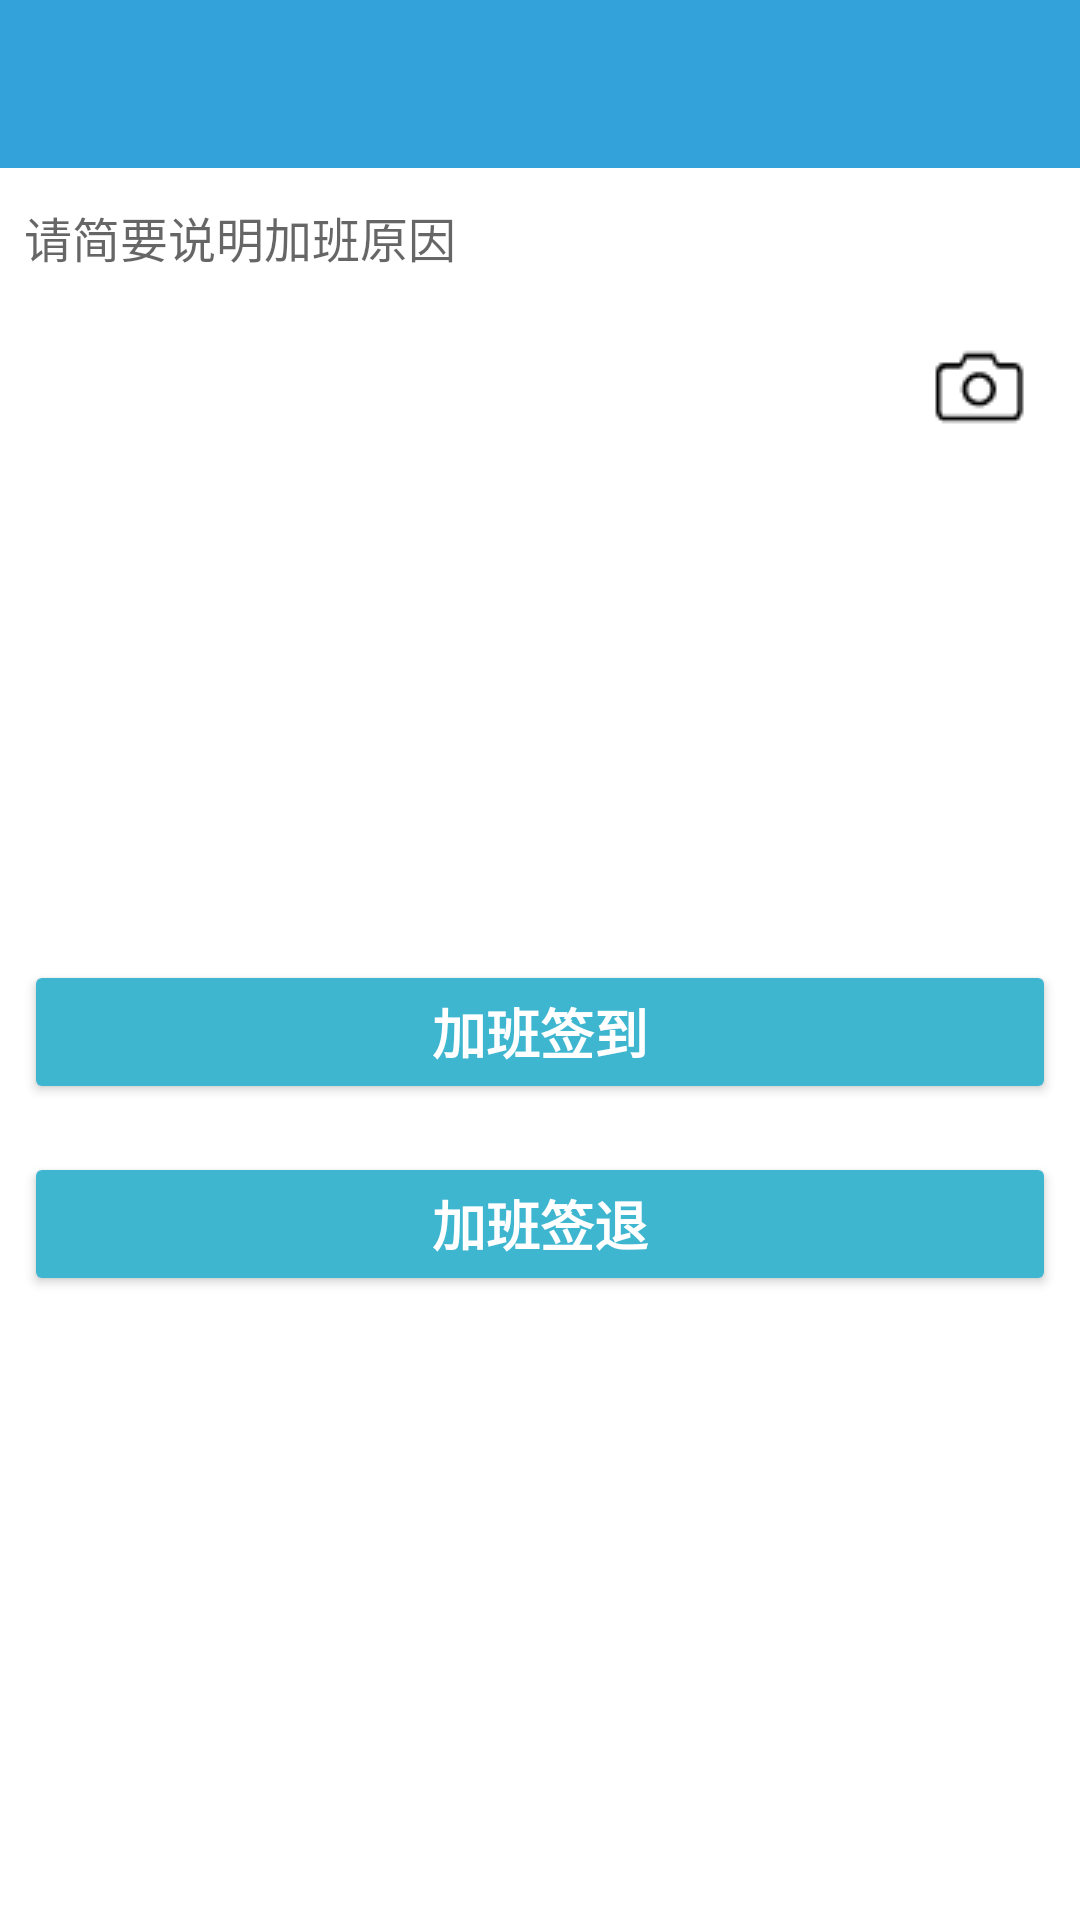

Icons on this 1080 x 1920 Android screen, each with its box as (x1,y1,x2,y2):
camera: (935,351,1024,423)
